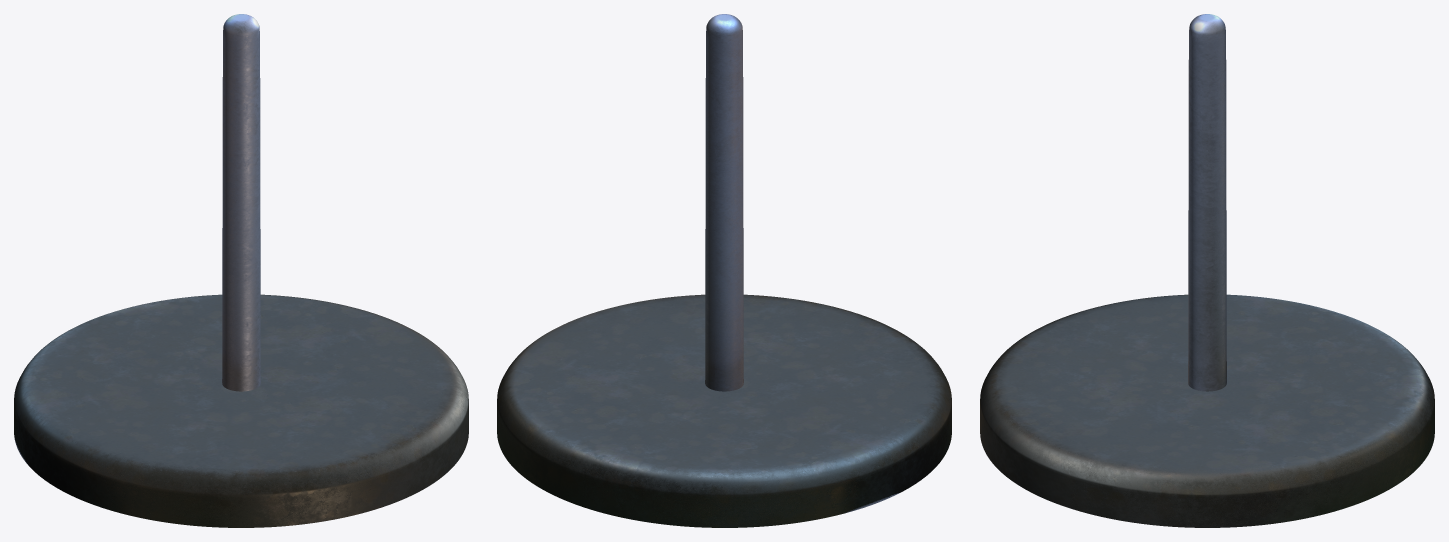
3 renders of one model, left to right at view 1: azimuth 30°, elevation 25°; view 2: azimuth 150°, elevation 25°; view 3: azimuth 270°, elevation 25°, orthographic.
Parts seen in each view (by area): view 1: Base; view 2: Base; view 3: Base.
Boxes of the visible parts, x1,y1,x2,y2 form: Base: (14,14,468,527); Base: (497,14,951,527); Base: (980,14,1434,527).
Size of the model in its own units: 921 by 925 by 921.
1 material, 1 textured.
